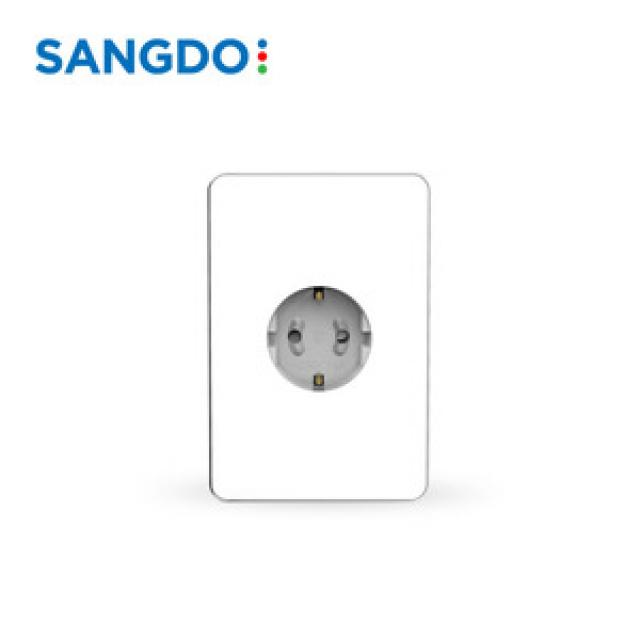typeb: (197, 157, 474, 571)
